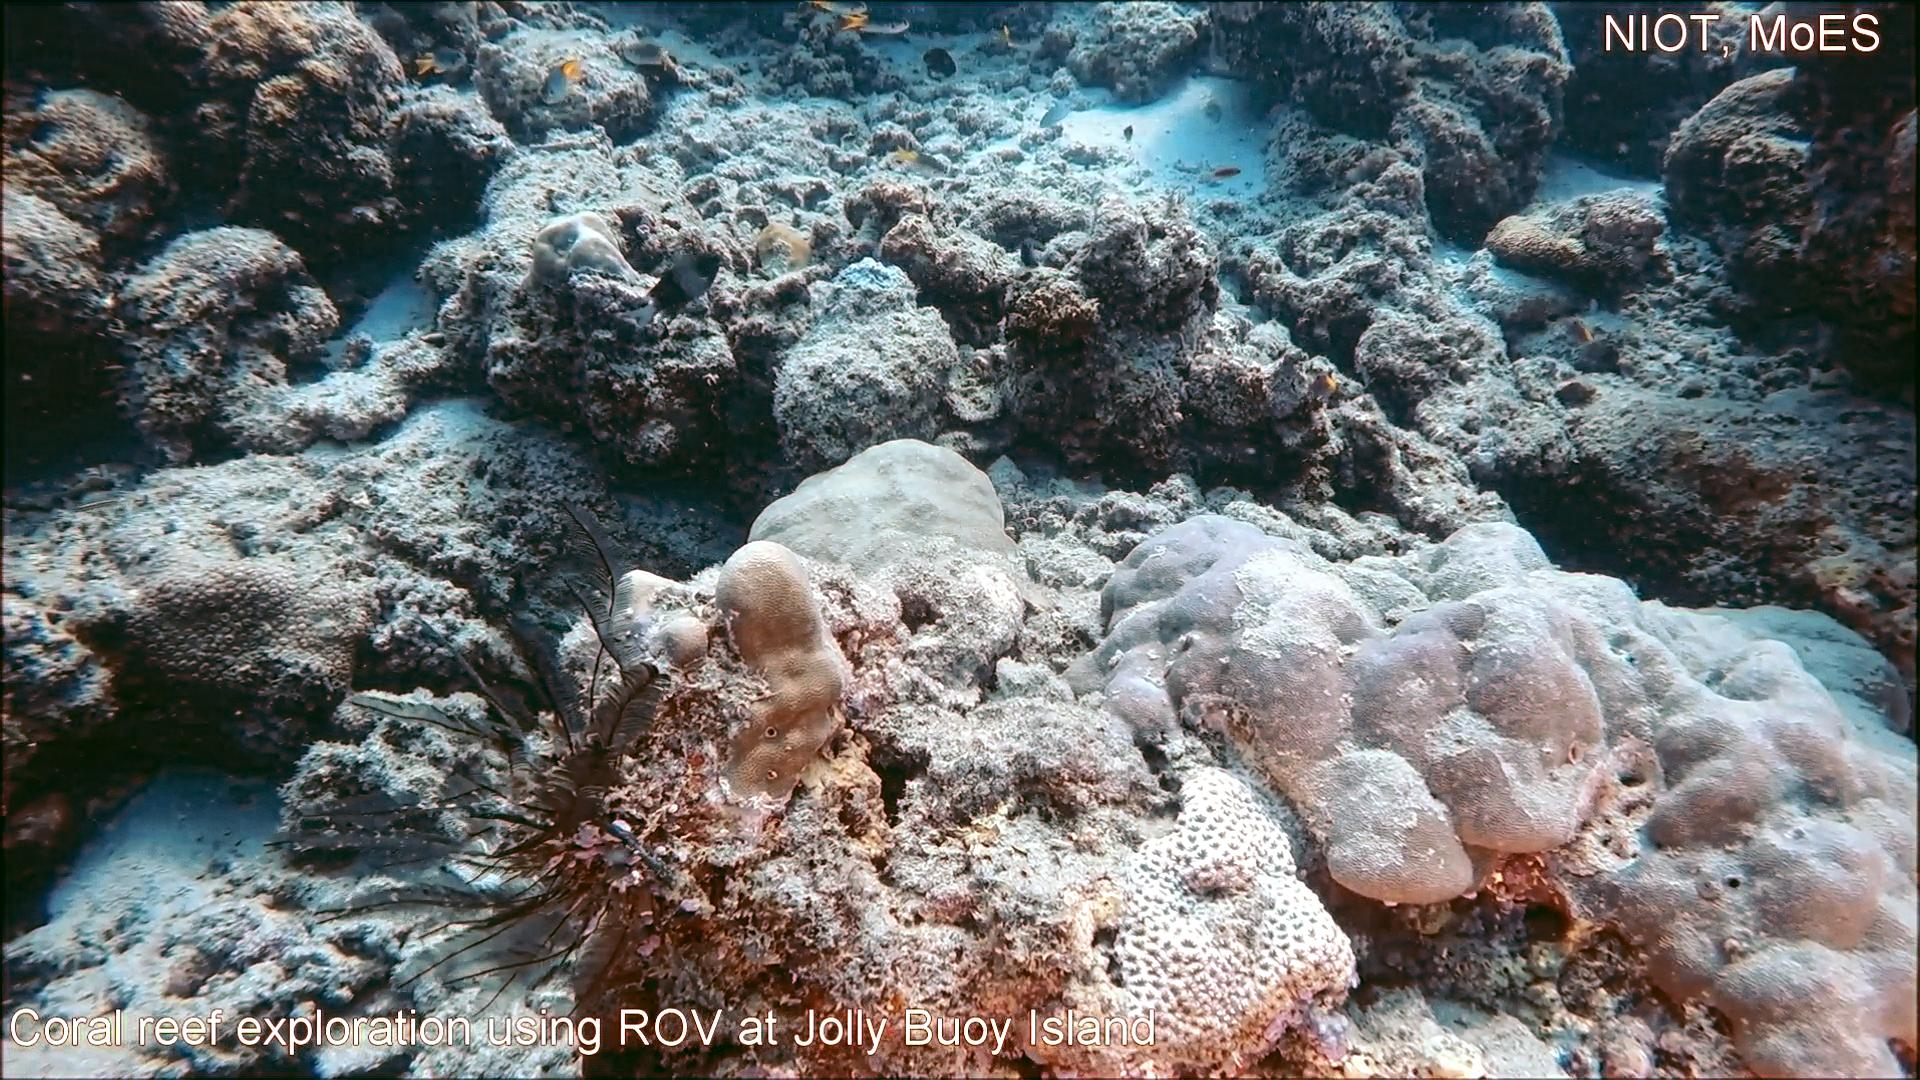Feather star-Crinoid star: (259, 491, 711, 1080)
Goniastrea-Goniastrea pectinata: (1109, 759, 1365, 1080)
Porites-Porites pukoensis: (1460, 516, 1920, 1080)
Turbinaria-Turbinaria stellulata: (106, 547, 383, 715)
